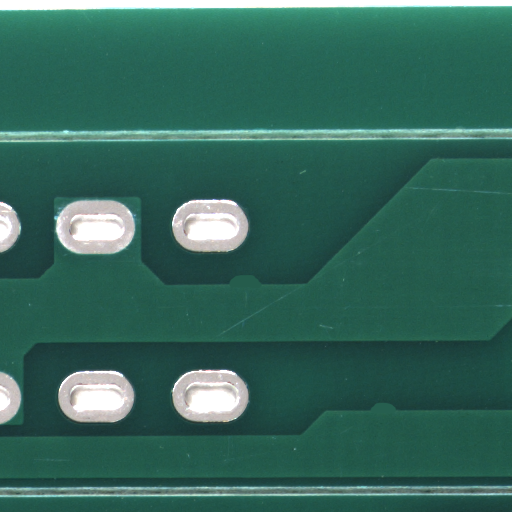Spur: (243, 280, 277, 294), (383, 407, 413, 418)
